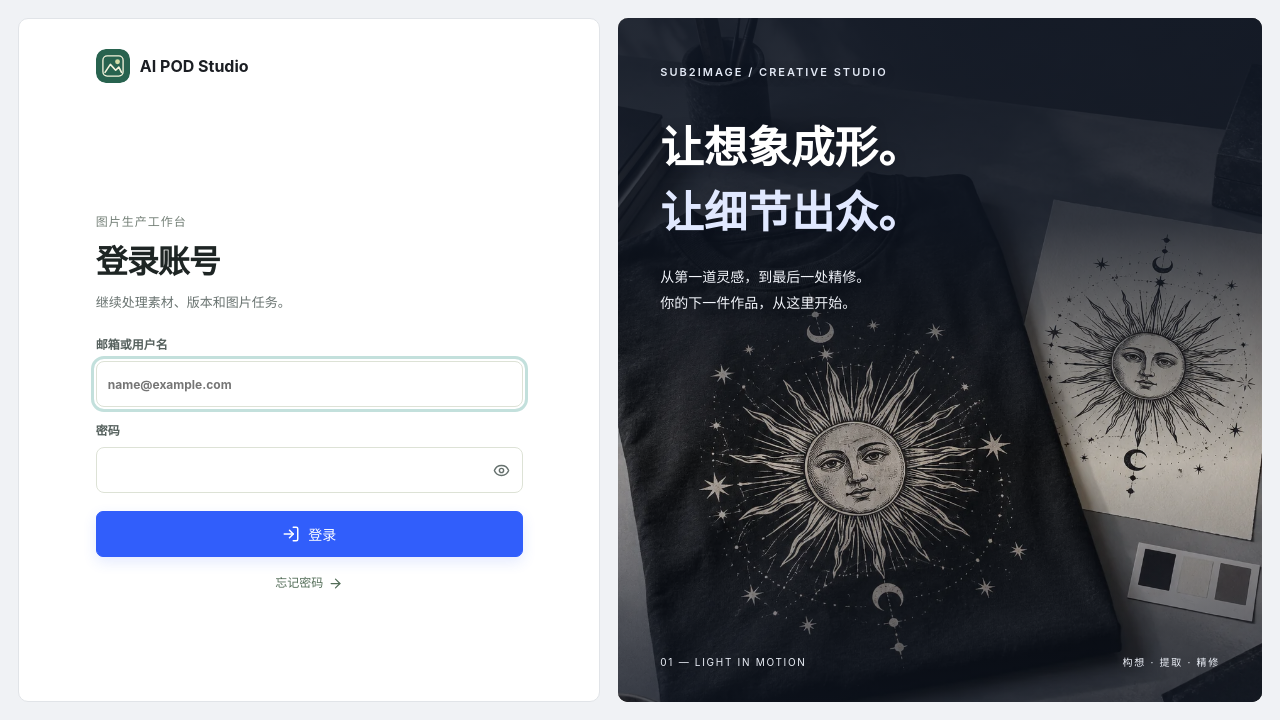
Scenario: UserApp authentication › renders a labelled login form and toggles password visibility
The width and height of the screenshot is (1280, 720).
Expected: the heading "登录账号" is shown, [96, 242, 220, 281]
Click the button named "显示密码": (502, 470) [484, 453, 518, 487]
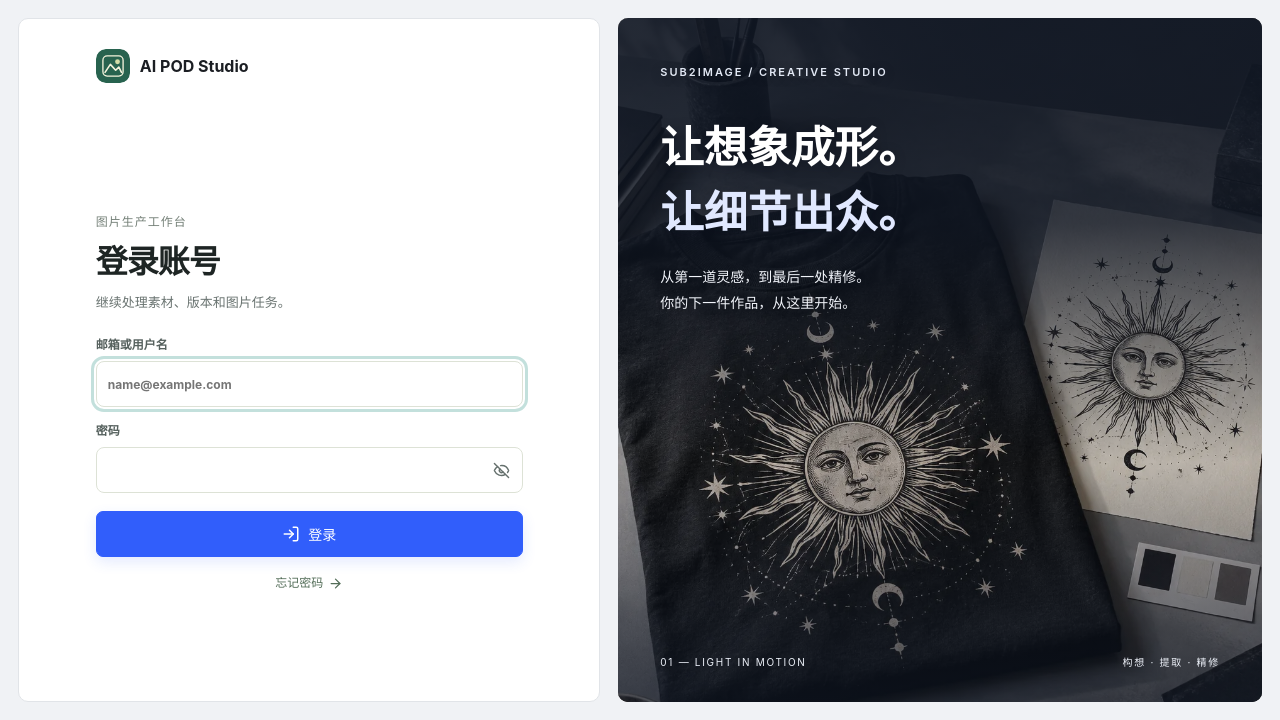
Expected: the button named "隐藏密码" is shown, [484, 453, 518, 487]
